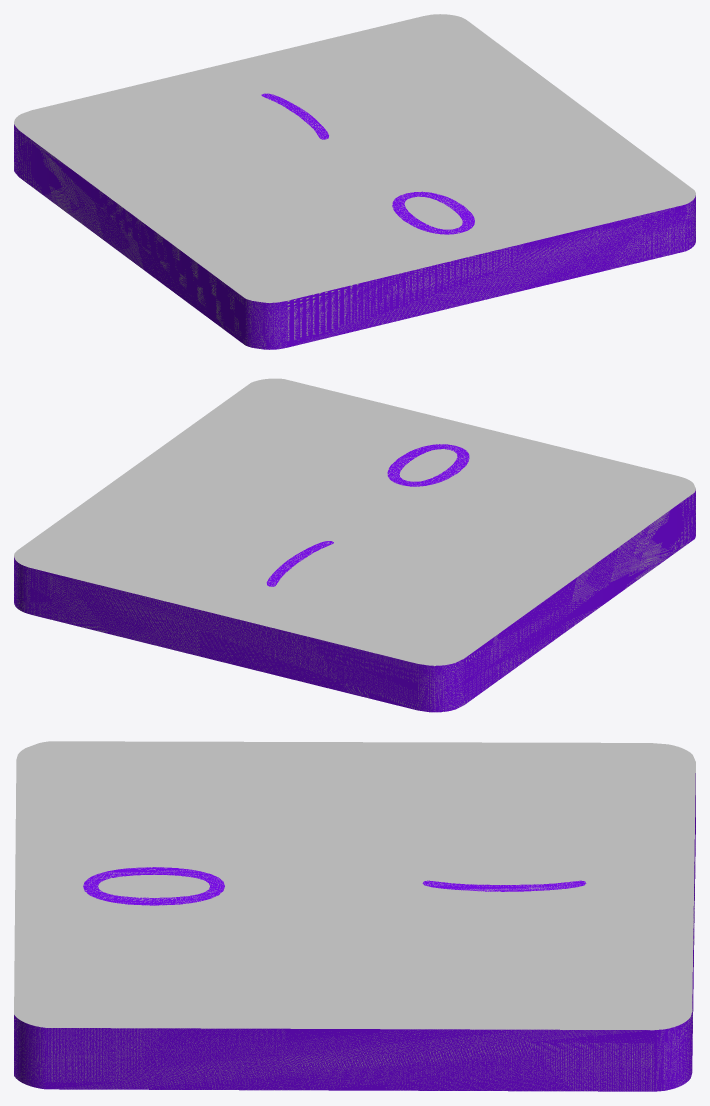
The model's file is original-25.obj.
3 renders of one model, top to bottom at view 1: azimuth 30°, elevation 25°; view 2: azimuth 150°, elevation 25°; view 3: azimuth 270°, elevation 25°, orthographic. The views are drawn at different scales.
Visible parts, largest first — view 1: mesh24/mesh24-geometry#mesh24-geometry; view 2: mesh24/mesh24-geometry#mesh24-geometry; view 3: mesh24/mesh24-geometry#mesh24-geometry.
Boxes of the visible parts, x1,y1,x2,y2 form: mesh24/mesh24-geometry#mesh24-geometry: (14,14,695,349); mesh24/mesh24-geometry#mesh24-geometry: (14,378,695,712); mesh24/mesh24-geometry#mesh24-geometry: (14,741,695,1091).
Bounding box in the file's own units: 0.0561 × 0.00565 × 0.056.
